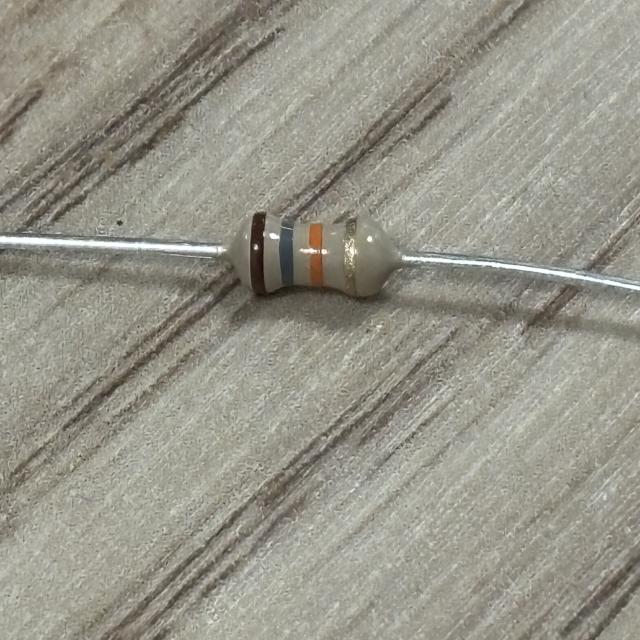resistor: (236, 208, 383, 303)
